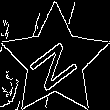N_NE: (25, 30, 85, 92)
